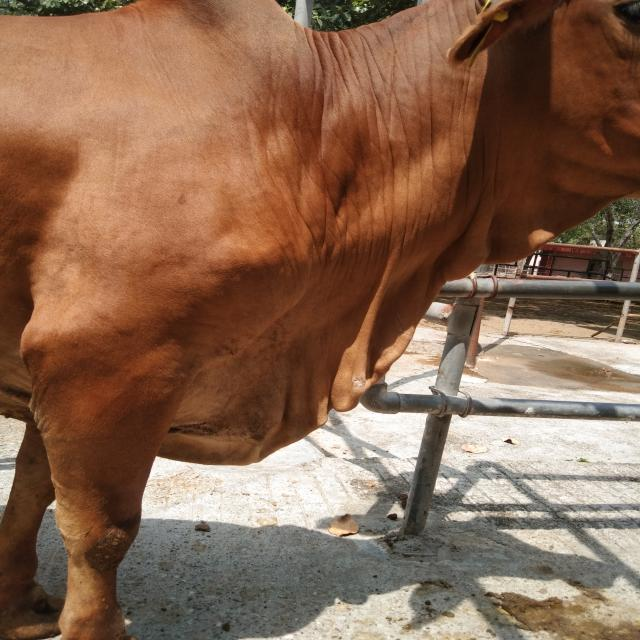Hoof: (0, 582, 64, 639)
